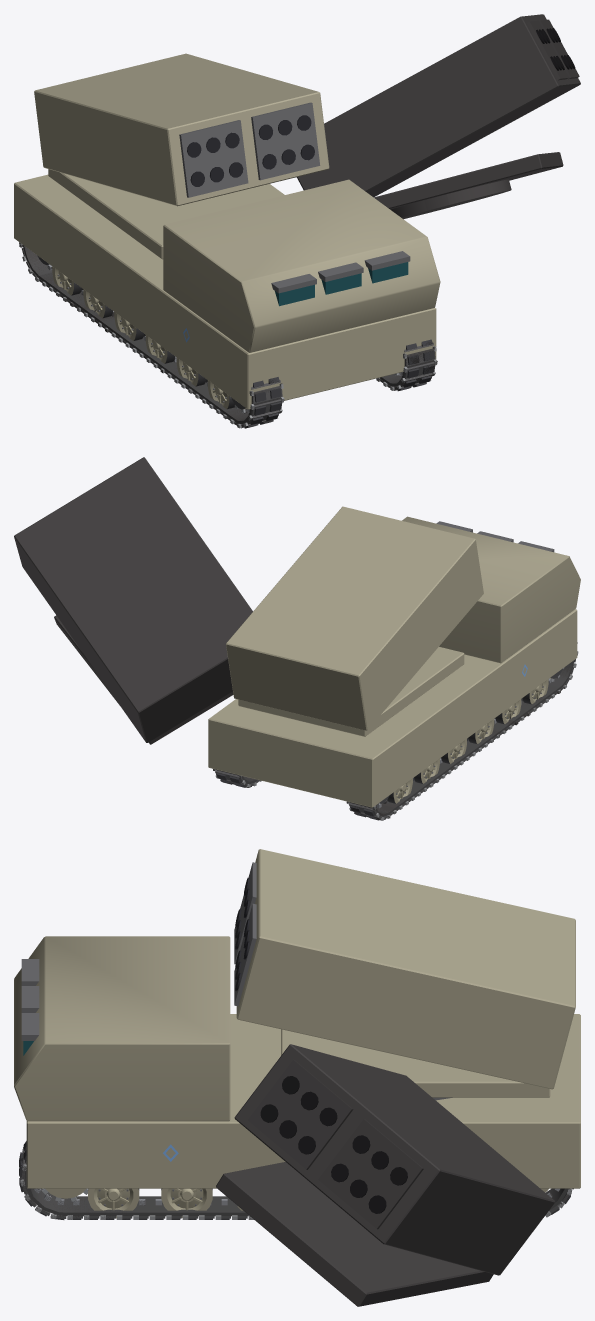
Rendered from mlrs__m270_jgsdf.glb.
3 views of the same model, one above another, from view 1: azimuth 30°, elevation 25°; view 2: azimuth 150°, elevation 25°; view 3: azimuth 270°, elevation 25° (orthographic). The views are drawn at different scales.
Visible parts, largest first — view 1: Hull_Mesh, Gun_Mesh, Wreck, Turret_Mesh, Track_L_Mesh, Track_R_Mesh; view 2: Wreck, Gun_Mesh, Hull_Mesh, Turret_Mesh, Track_L_Mesh; view 3: Hull_Mesh, Gun_Mesh, Wreck, Turret_Mesh, Track_R_Mesh, Wheel_R4_Mesh, Wheel_R5_Mesh.
Part boxes in pixels (x1,y1,x2,y2): Hull_Mesh: (14, 174, 440, 409); Gun_Mesh: (34, 53, 329, 206); Wreck: (19, 14, 580, 428); Turret_Mesh: (48, 169, 284, 259); Track_L_Mesh: (19, 242, 284, 428); Track_R_Mesh: (376, 339, 436, 391); Wreck: (14, 457, 577, 819); Gun_Mesh: (226, 506, 483, 730); Hull_Mesh: (208, 516, 580, 807); Turret_Mesh: (238, 647, 464, 736); Track_L_Mesh: (347, 642, 578, 820); Hull_Mesh: (14, 936, 580, 1188); Gun_Mesh: (234, 849, 575, 1089); Wreck: (19, 1044, 571, 1306); Turret_Mesh: (281, 1029, 550, 1100); Track_R_Mesh: (19, 1141, 573, 1219); Wheel_R4_Mesh: (161, 1188, 212, 1217); Wheel_R5_Mesh: (88, 1188, 139, 1218).
Size of what is drawn, in the model's own units: 8.1 by 3.94 by 6.94.
